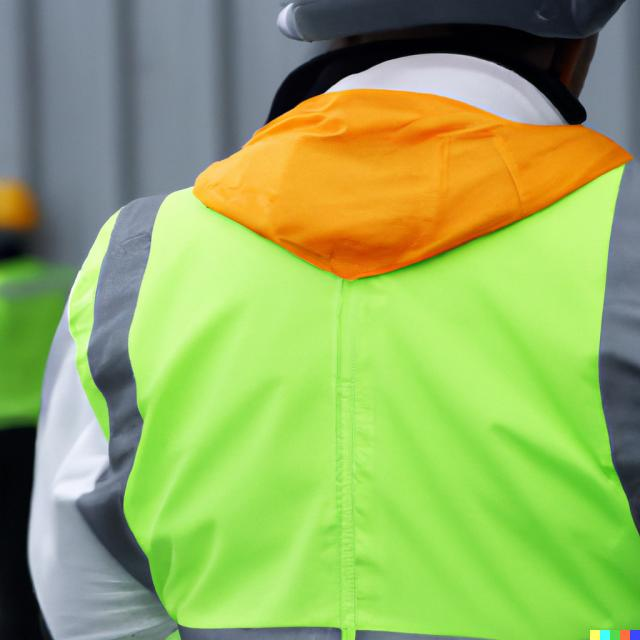Reflective-Jacket: (45, 56, 640, 633)
Safety-Helmet: (273, 0, 639, 48), (0, 170, 48, 242)
